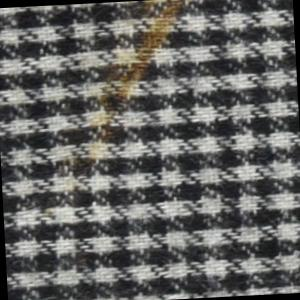Oil Stain: (26, 1, 205, 221)
